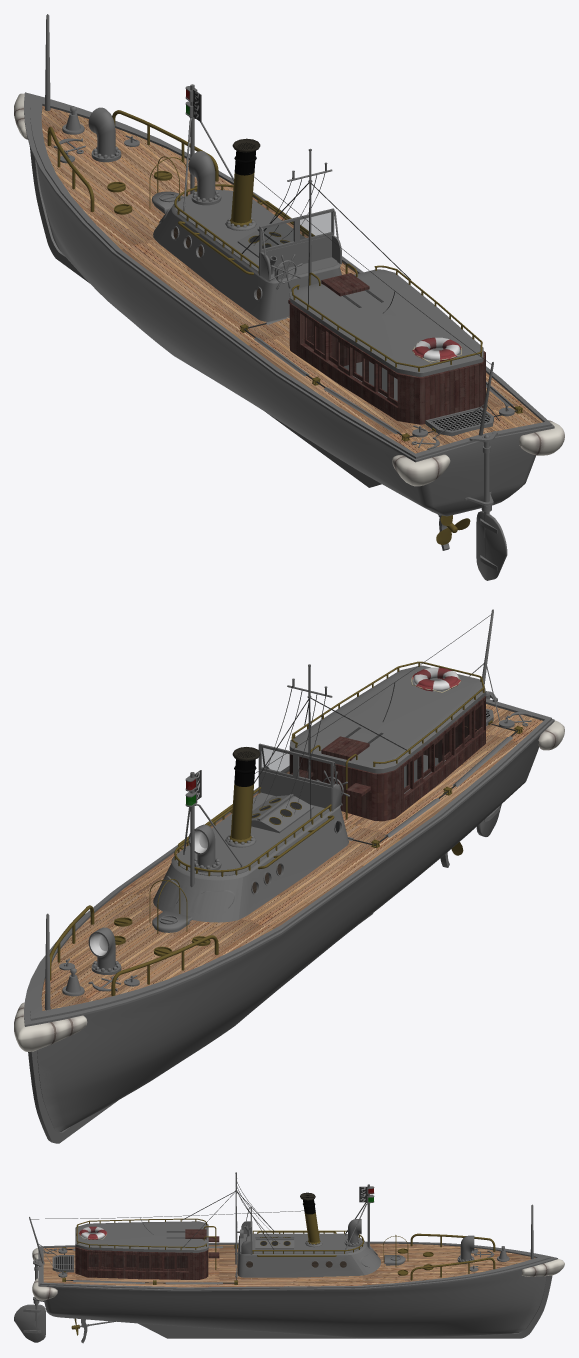
Rendered from 17m Torpedo boats.fbx.
3 views of the same model, one above another, from view 1: azimuth 30°, elevation 25°; view 2: azimuth 150°, elevation 25°; view 3: azimuth 270°, elevation 25° (orthographic). The views are drawn at different scales.
Parts seen in each view (by area): view 1: body, rudder, resc; view 2: body, resc; view 3: body, rudder, resc.
Part boxes in pixels (left/top/right/bottom): body: left=14, top=14, right=564, bottom=550; rudder: left=476, top=434, right=507, bottom=580; resc: left=412, top=337, right=462, bottom=362; body: left=14, top=609, right=564, bottom=1143; resc: left=411, top=667, right=461, bottom=692; body: left=29, top=1172, right=564, bottom=1343; rudder: left=14, top=1260, right=45, bottom=1342; resc: left=79, top=1226, right=107, bottom=1239.
Bounding box in the file's own units: 9140 × 15571 × 45676.
Materials: 22 (10 with a texture image).
